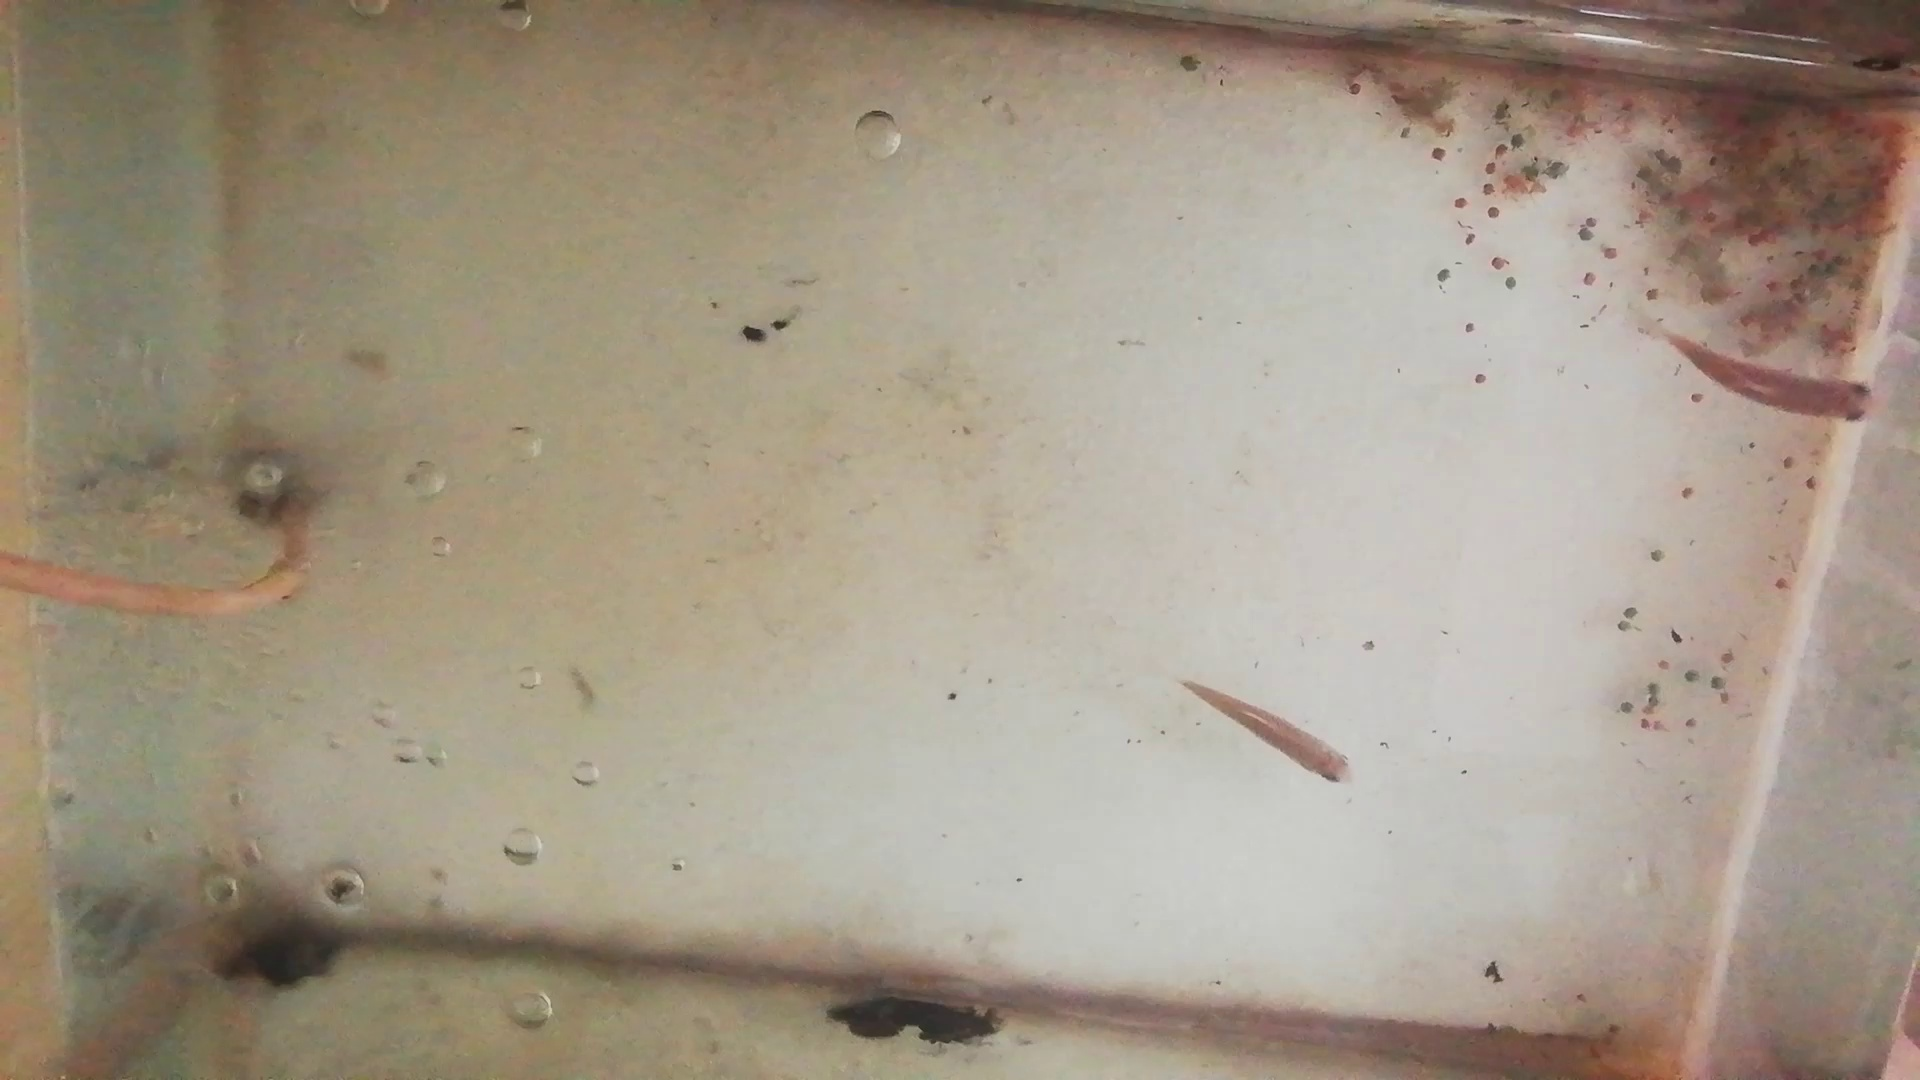fish: (1664, 328, 1878, 433), (1178, 675, 1354, 787)
